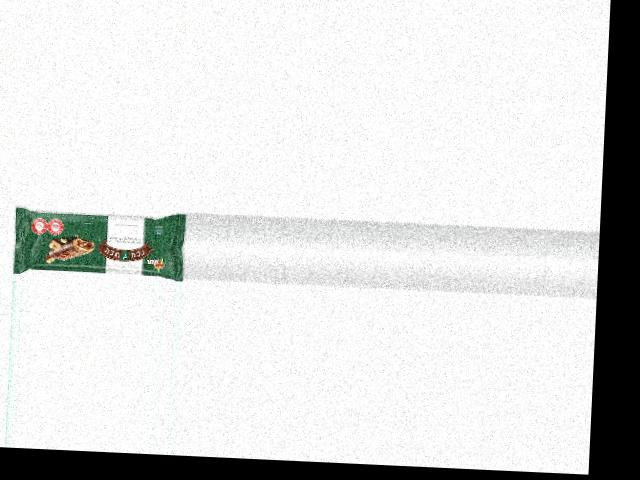chocolate: (11, 202, 188, 281)
